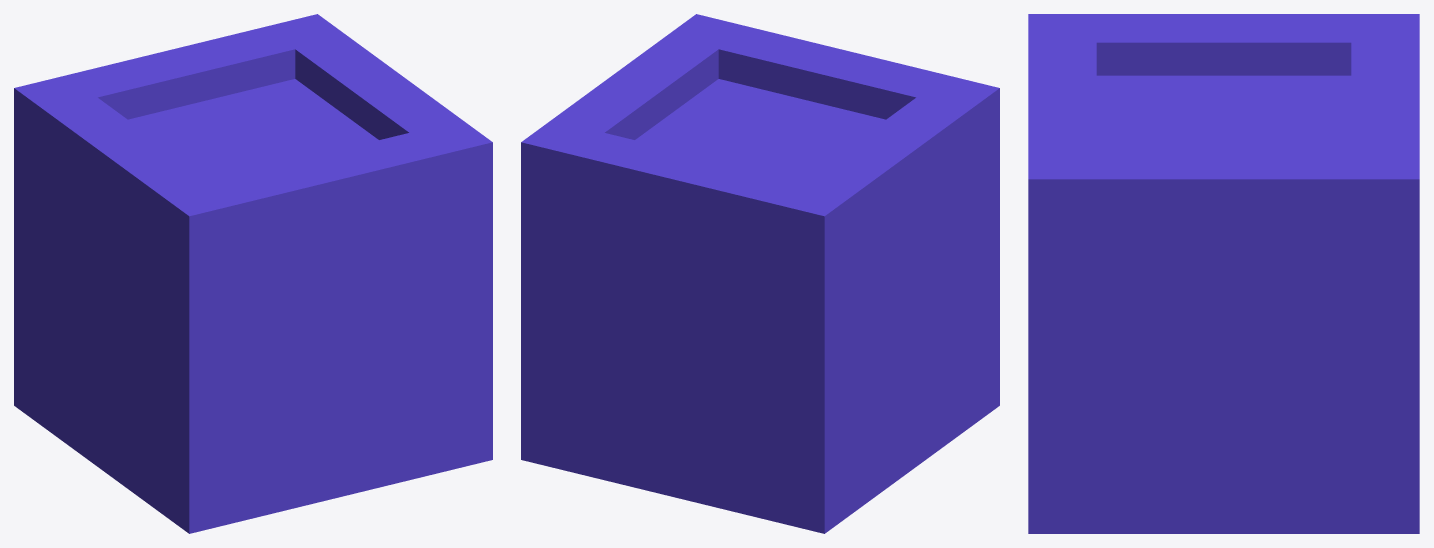
Rendered from example.glb.
The picture shows the model from 3 angles, left to right: view 1: azimuth 30°, elevation 25°; view 2: azimuth 150°, elevation 25°; view 3: azimuth 270°, elevation 25°; orthographic projection. The views are drawn at different scales.
Parts seen in each view (by area): view 1: Cube; view 2: Cube; view 3: Cube.
Boxes of the visible parts, bbox=[...] form: Cube: bbox=[14, 14, 492, 533]; Cube: bbox=[521, 14, 999, 533]; Cube: bbox=[1028, 14, 1419, 533].
Size of what is drawn, in the model's own units: 2 by 2 by 2.
